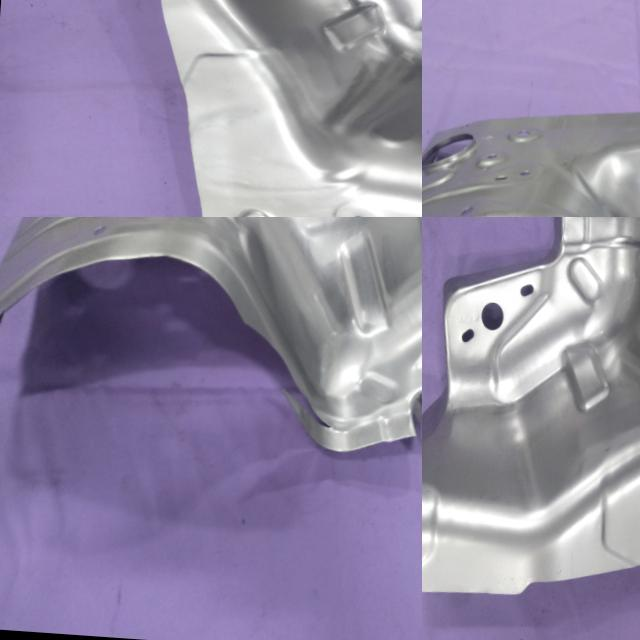Defect: (246, 319, 353, 438)
Healthy: (422, 217, 640, 630)
